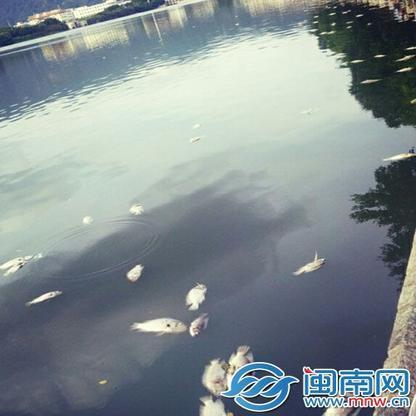deceased fish: (129, 317, 189, 336), (201, 356, 225, 390), (186, 280, 208, 312)
